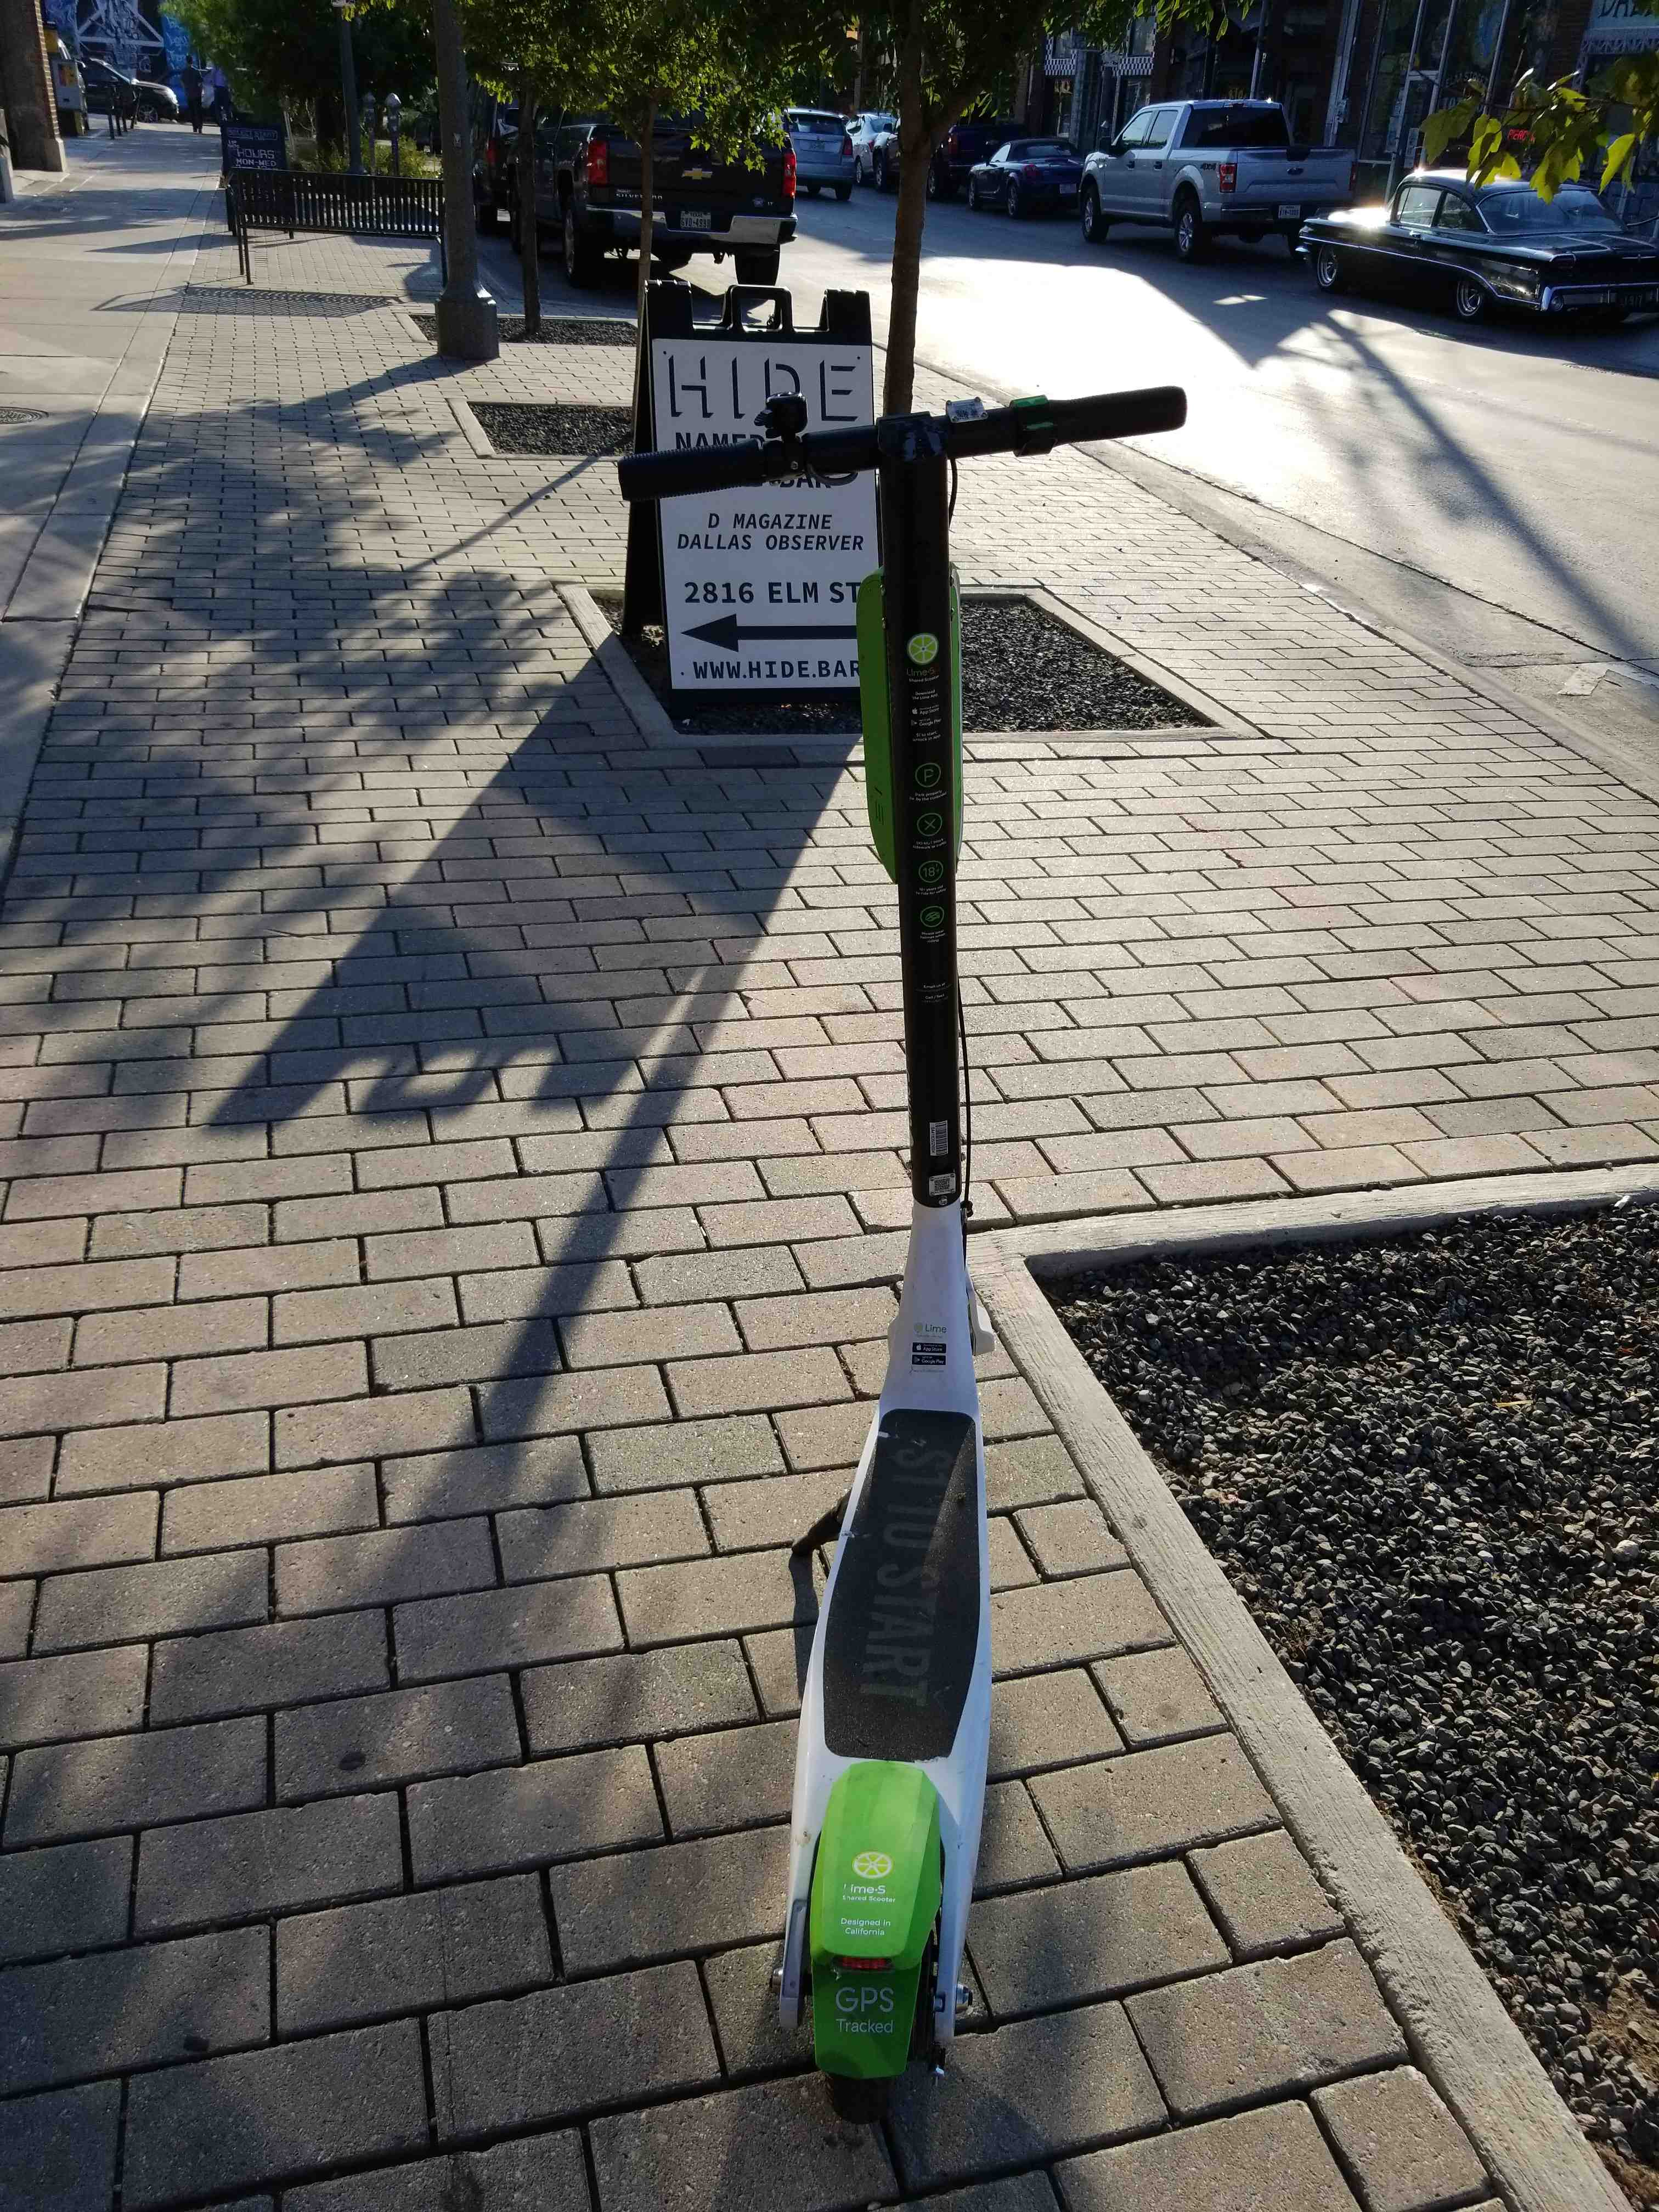scooter: (587, 404, 1255, 2074)
